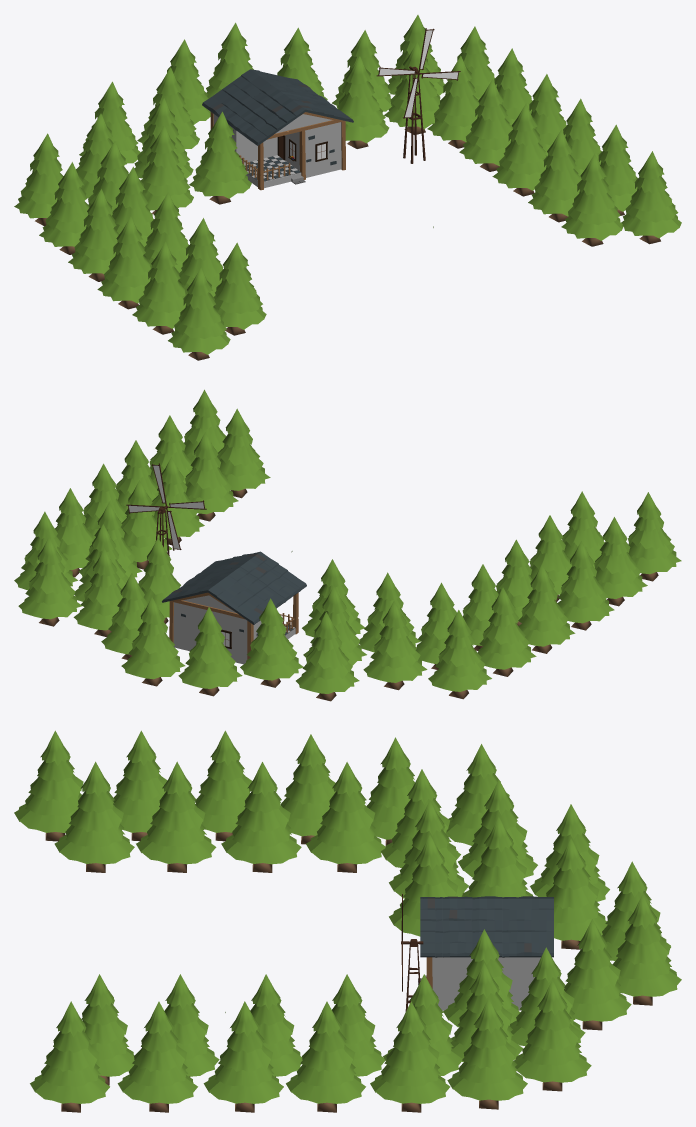
The picture shows the model from 3 angles, top to bottom: view 1: azimuth 30°, elevation 25°; view 2: azimuth 150°, elevation 25°; view 3: azimuth 270°, elevation 25°; orthographic projection. The views are drawn at different scales.
Parts seen in each view (by area): view 1: roof.001, house body, Pine Tree 2_Plant_0.003, Pine Tree 2_Plant_0.033, Pine Tree 2_Plant_0.022, Pine Tree 2_Plant_0.034, Pine Tree 2_Plant_0.027, Pine Tree 2_Plant_0.032, Pine Tree 2_Plant_0.020, Pine Tree 2_Plant_0.031, Pine Tree 2_Plant_0.002, Pine Tree 2_Plant_0.021 (+29 smaller); view 2: roof.001, Pine Tree 2_Plant_0.006, Pine Tree 2_Plant_0.008, Pine Tree 2_Plant_0.013, Pine Tree 2_Plant_0.014, Pine Tree 2_Plant_0.028, Pine Tree 2_Plant_0.007, Pine Tree 2_Plant_0.015, Pine Tree 2_Plant_0.029, Pine Tree 2_Plant_0.031, Pine Tree 2_Plant_0.030, house body (+27 smaller); view 3: roof.001, Pine Tree 2_Plant_0.016, Pine Tree 2_Plant_0.026, Pine Tree 2_Plant_0.024, Pine Tree 2_Plant_0.001, Pine Tree 2_Plant_0.019, Pine Tree 2_Plant_0.027, Pine Tree 2_Plant_0.023, Pine Tree 2_Plant_0.025, Pine Tree 2_Plant_0.034, Pine Tree 2_Plant_0.018, Pine Tree 2_Plant_0.013 (+25 smaller).
Boxes of the visible parts, x1,y1,x2,y2 form: roof.001: (202, 69, 353, 145); house body: (213, 114, 341, 188); Pine Tree 2_Plant_0.003: (189, 111, 251, 204); Pine Tree 2_Plant_0.033: (168, 267, 230, 360); Pine Tree 2_Plant_0.022: (561, 153, 623, 246); Pine Tree 2_Plant_0.034: (621, 151, 681, 244); Pine Tree 2_Plant_0.027: (213, 242, 266, 335); Pine Tree 2_Plant_0.032: (132, 241, 186, 334); Pine Tree 2_Plant_0.020: (492, 103, 546, 196); Pine Tree 2_Plant_0.031: (97, 216, 151, 309); Pine Tree 2_Plant_0.002: (459, 79, 512, 171); Pine Tree 2_Plant_0.021: (528, 129, 580, 222); roof.001: (162, 551, 306, 624); Pine Tree 2_Plant_0.006: (240, 598, 303, 687); Pine Tree 2_Plant_0.008: (363, 601, 427, 690); Pine Tree 2_Plant_0.013: (18, 537, 82, 626); Pine Tree 2_Plant_0.014: (178, 607, 242, 696); Pine Tree 2_Plant_0.028: (428, 610, 491, 699); Pine Tree 2_Plant_0.007: (296, 612, 359, 701); Pine Tree 2_Plant_0.015: (121, 597, 185, 686); Pine Tree 2_Plant_0.029: (477, 587, 536, 676); Pine Tree 2_Plant_0.031: (557, 541, 614, 630); Pine Tree 2_Plant_0.030: (518, 564, 575, 653); house body: (173, 595, 295, 664); roof.001: (420, 896, 553, 957); Pine Tree 2_Plant_0.016: (370, 1001, 450, 1112); Pine Tree 2_Plant_0.026: (136, 761, 216, 872); Pine Tree 2_Plant_0.024: (117, 1001, 197, 1112); Pine Tree 2_Plant_0.001: (306, 762, 385, 872); Pine Tree 2_Plant_0.019: (286, 1001, 365, 1112); Pine Tree 2_Plant_0.027: (54, 761, 134, 872); Pine Tree 2_Plant_0.023: (203, 1001, 283, 1112); Pine Tree 2_Plant_0.025: (221, 762, 301, 872); Pine Tree 2_Plant_0.034: (30, 1001, 109, 1112); Pine Tree 2_Plant_0.018: (447, 998, 527, 1109); Pine Tree 2_Plant_0.013: (514, 980, 591, 1091).
Size of the model in its own units: 43.01 by 10.71 by 40.13.
39 materials, 37 textured.
